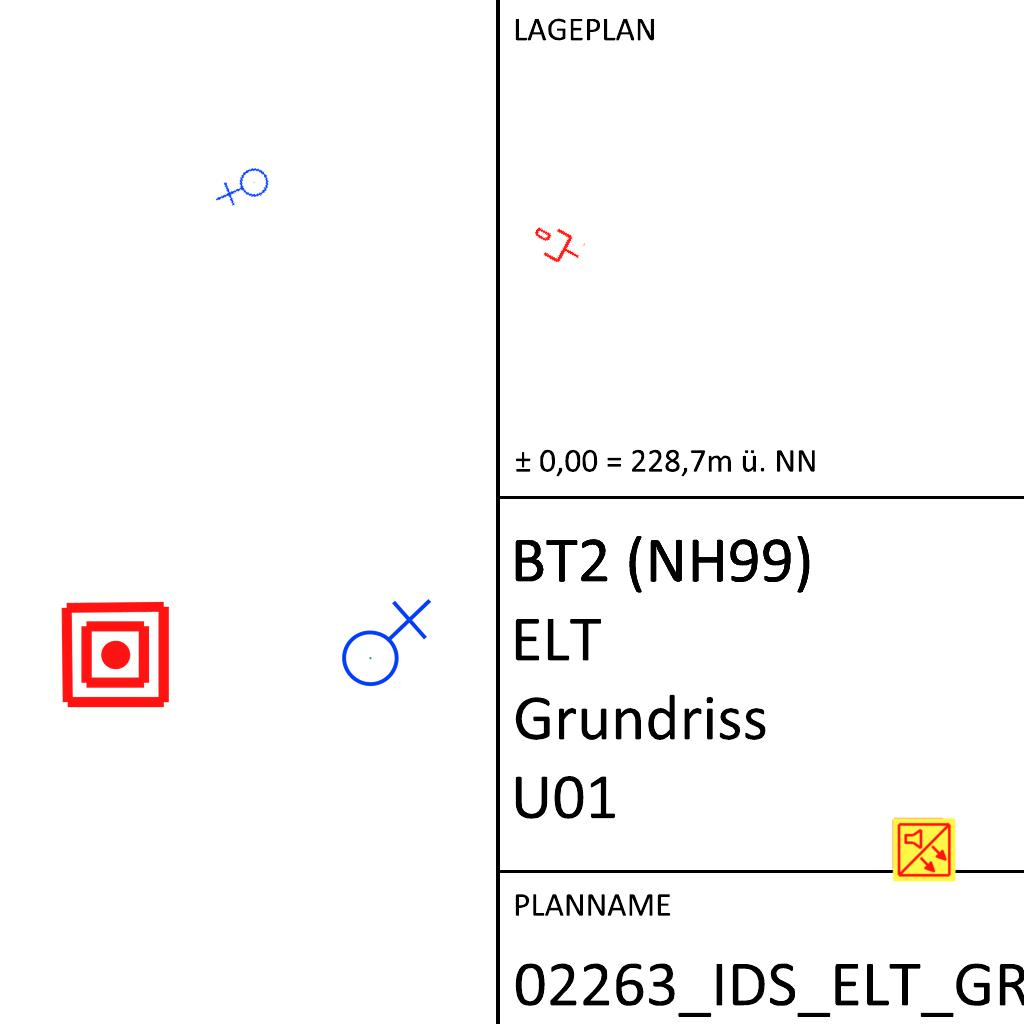Datenanschluss_einfach: (526, 218, 588, 272)
Elektroanschluss_allgemein_230V_Geraeteanschlussdose_230V: (333, 594, 432, 688), (214, 158, 277, 219)
NAM-Nichtautomatischer_Melder: (59, 598, 172, 711)
OKW_Multisensormelder_(Kombination_optischer_Rauch-Kahlenmonoxid_Waerme-Melder): (891, 817, 957, 883)
